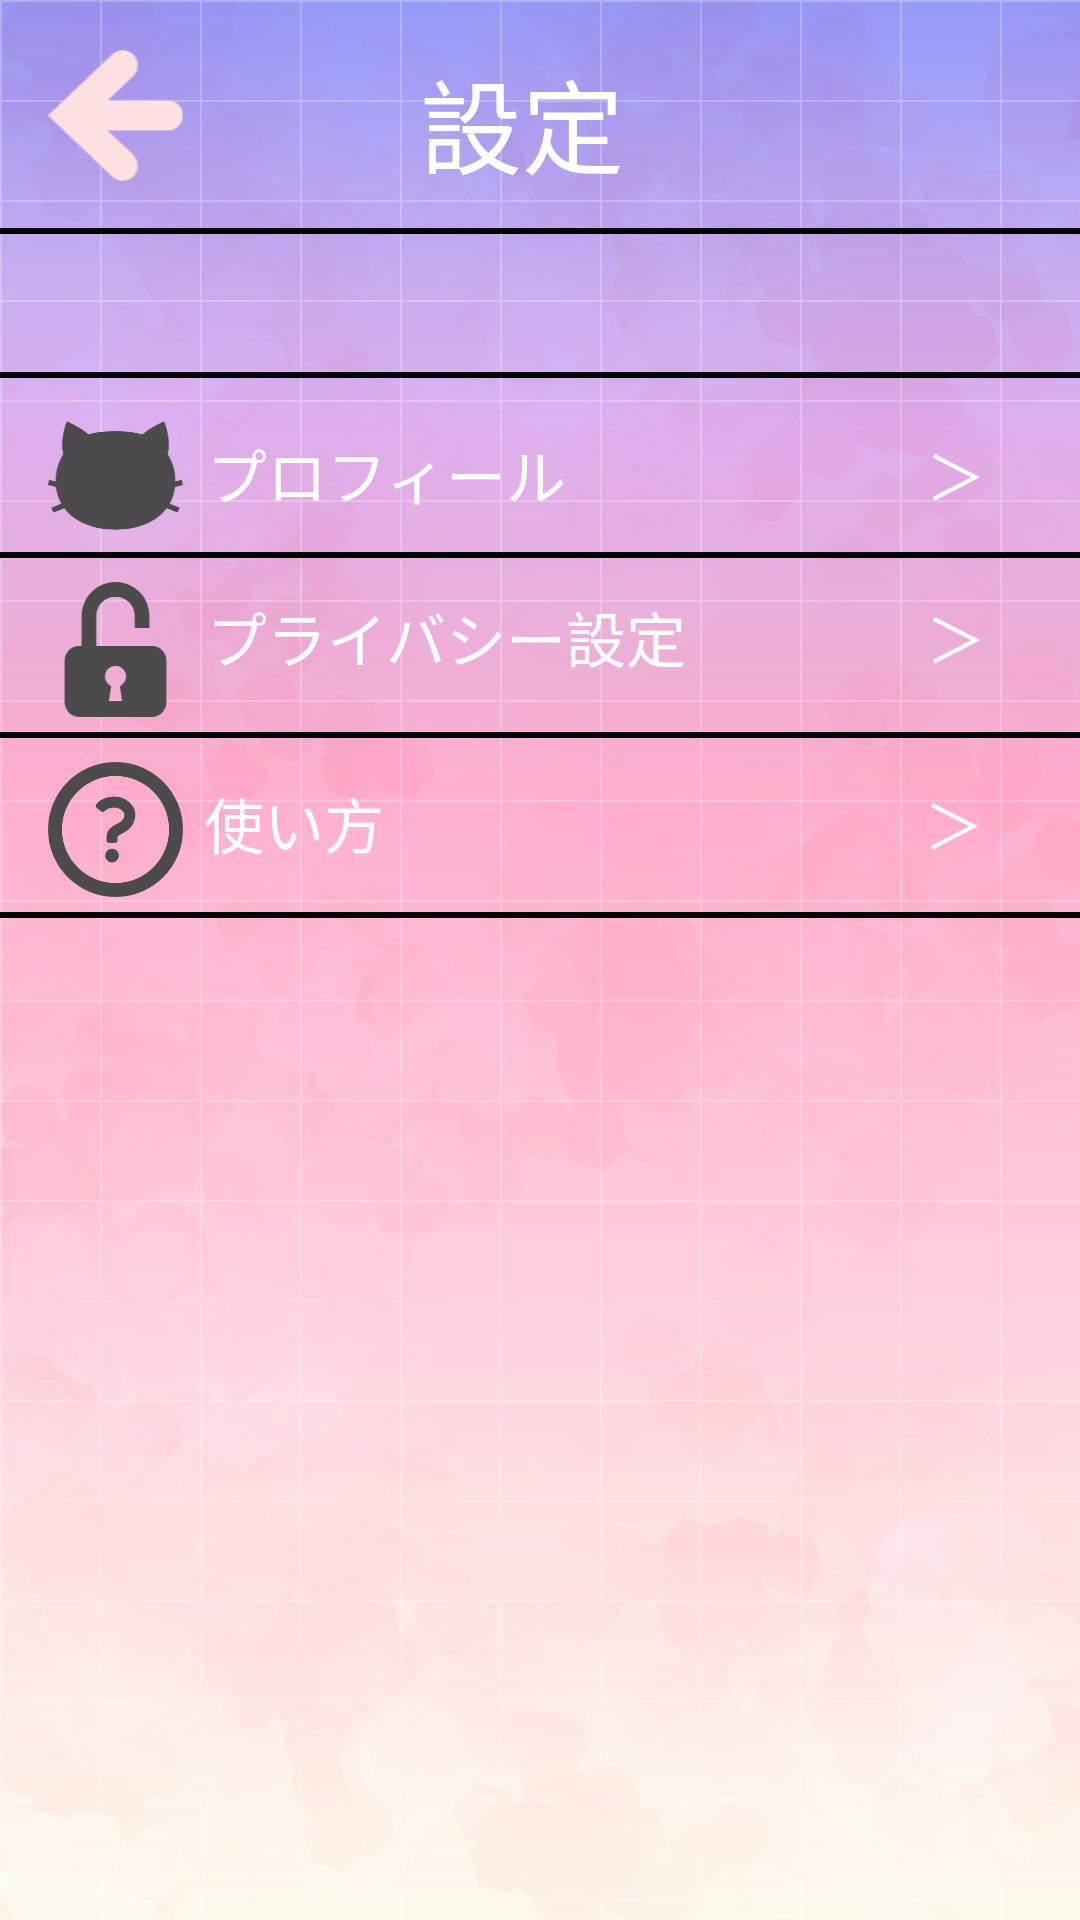

Icons on this 1080px×1920px Android screen, each with its box as (x1, y1, x2, y2):
backbtn: (48, 48, 183, 183)
catsil: (48, 421, 183, 530)
howto: (48, 762, 183, 897)
passsil: (64, 582, 167, 717)
